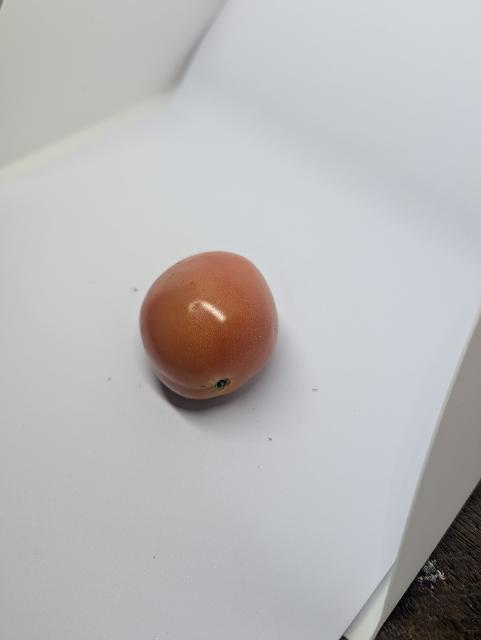red: (132, 245, 291, 411)
